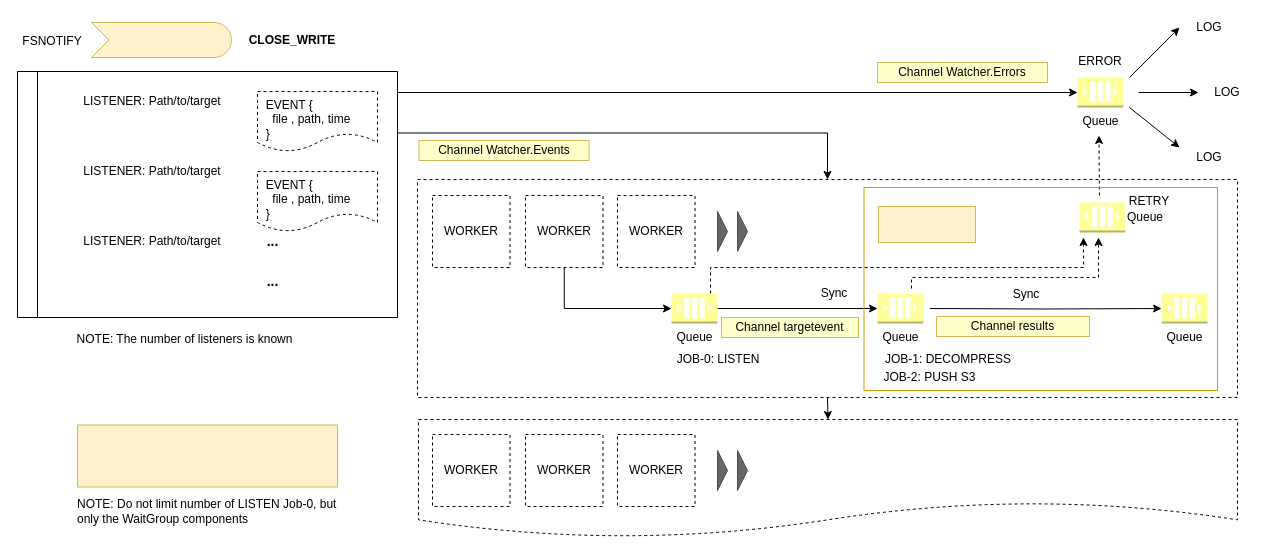
Some shapes in this 1265 by 555 pixel diagram are drawn without their labels. Here are the shapes that lost their labels. From the top down, the box of each, then its label:
(90, 22, 232, 58): Event
(16, 70, 398, 318): Pool
(878, 206, 976, 242): WaitGroup
(76, 424, 338, 487): WaitGroup Worker Pool (Limit max threads to max file IO) across Watcher.Events
